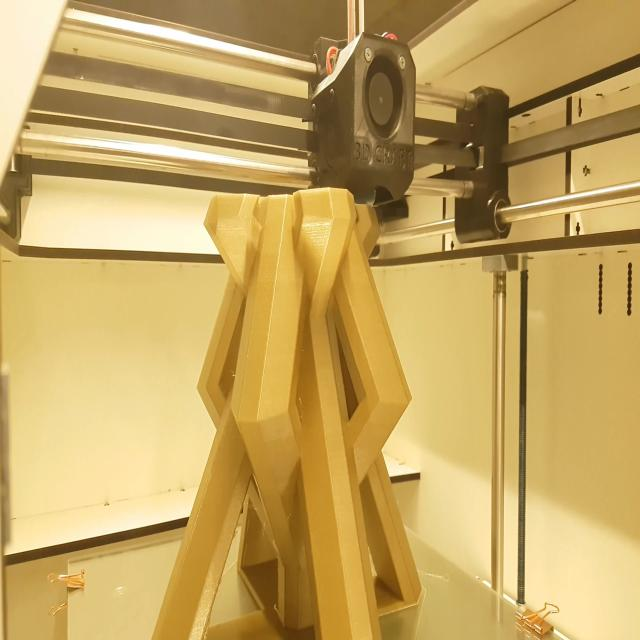Without deffect: (149, 167, 424, 640)
